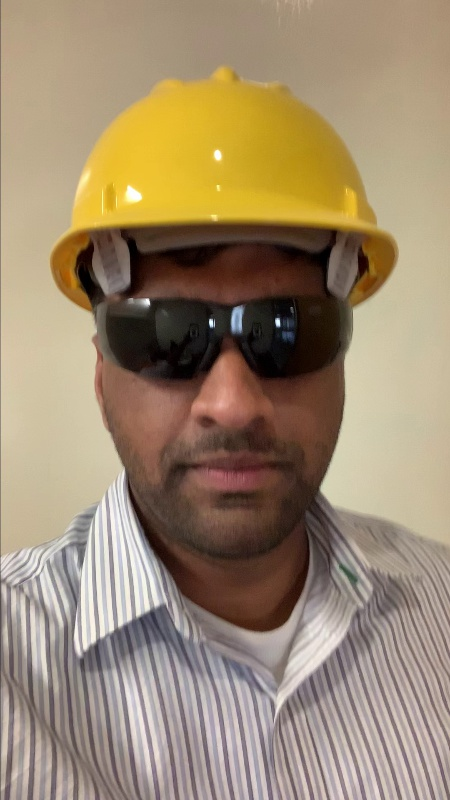glasses: (81, 288, 368, 384)
helmet: (39, 61, 403, 288)
